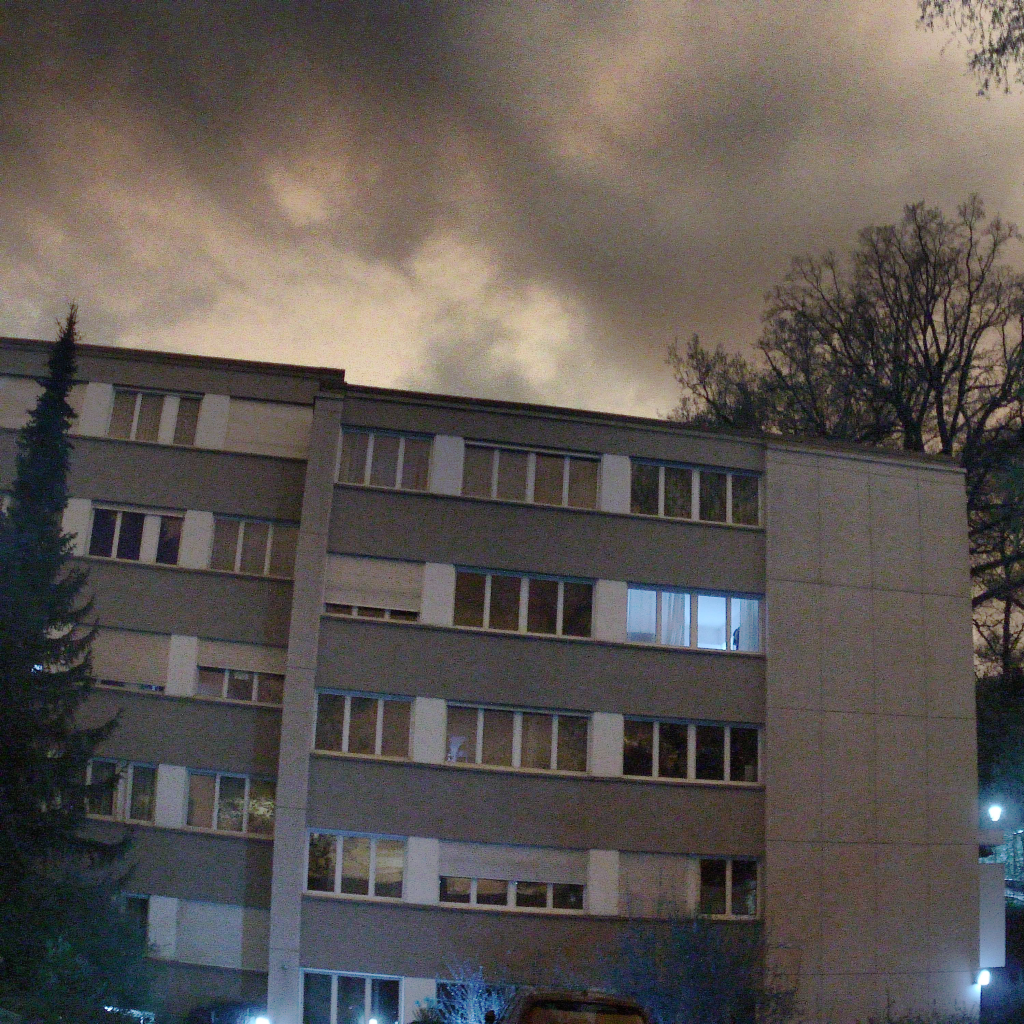glass_panel: (702, 598, 760, 652), (488, 575, 521, 631), (520, 712, 552, 769), (446, 706, 477, 762), (453, 572, 485, 626), (481, 711, 513, 765), (374, 840, 404, 897), (623, 719, 653, 776), (556, 716, 587, 771), (315, 693, 344, 751), (527, 578, 557, 634), (462, 445, 494, 497), (86, 761, 116, 816), (381, 700, 410, 756), (348, 698, 377, 754), (562, 582, 592, 636), (341, 837, 369, 894), (697, 594, 726, 649), (215, 775, 244, 830), (239, 521, 269, 574), (496, 449, 527, 500), (659, 722, 687, 778), (730, 726, 758, 782), (627, 587, 656, 641), (533, 454, 564, 504), (247, 779, 275, 834), (370, 434, 399, 487), (401, 437, 430, 490), (339, 429, 368, 482), (661, 591, 689, 645), (696, 725, 724, 779), (567, 459, 598, 507), (699, 859, 726, 914), (128, 765, 155, 820), (187, 774, 215, 827), (269, 524, 297, 577), (210, 519, 239, 570), (302, 973, 331, 1023), (631, 462, 658, 514), (108, 390, 137, 438), (664, 467, 691, 518), (699, 470, 726, 521), (336, 976, 365, 1023), (135, 394, 163, 441), (116, 512, 144, 559), (732, 475, 758, 525), (89, 508, 116, 556), (173, 397, 200, 445), (156, 516, 182, 564), (371, 978, 398, 1023), (257, 673, 284, 704), (476, 879, 508, 905), (552, 884, 584, 910), (226, 670, 253, 700), (440, 876, 470, 903), (197, 668, 224, 697), (516, 881, 546, 907), (388, 609, 419, 622), (358, 606, 385, 618)
